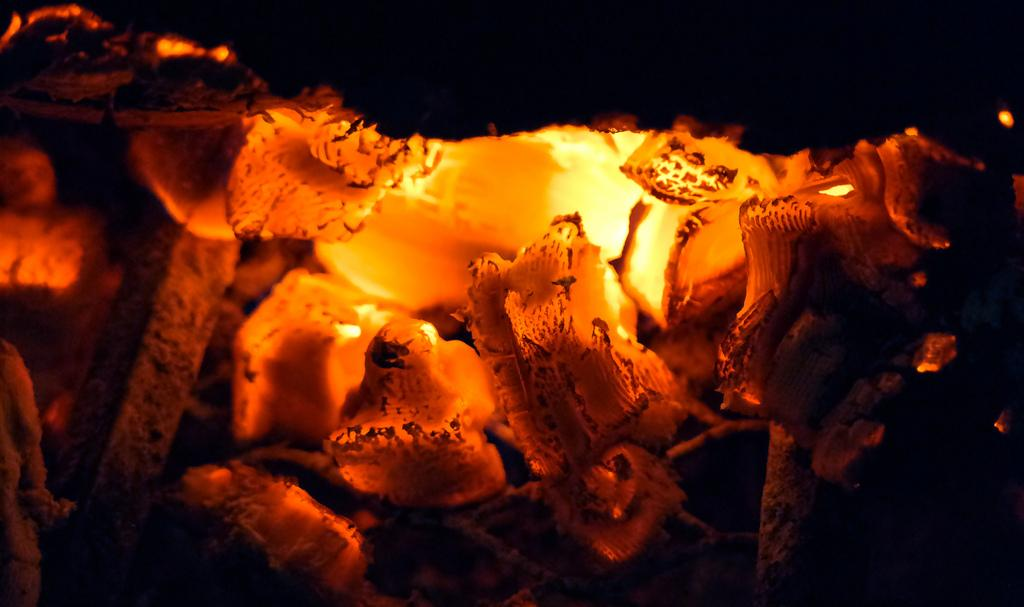fire: (558, 155, 658, 260)
